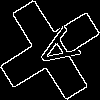A: (25, 25, 82, 78)
